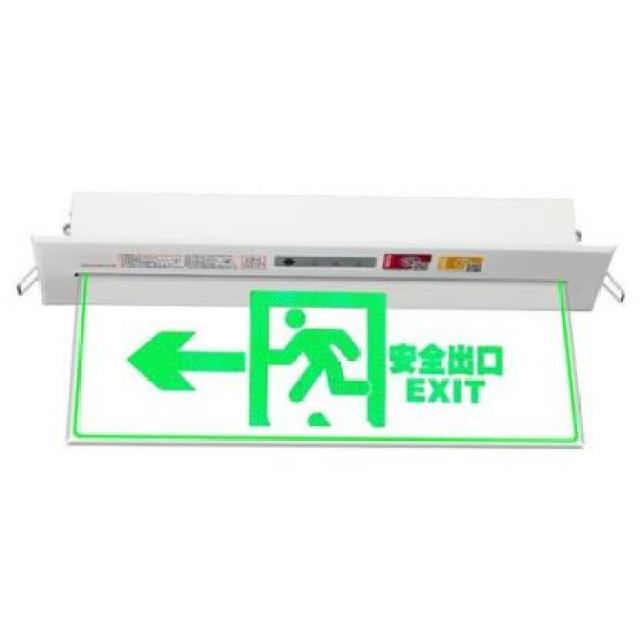exit_sign: (17, 188, 620, 460)
